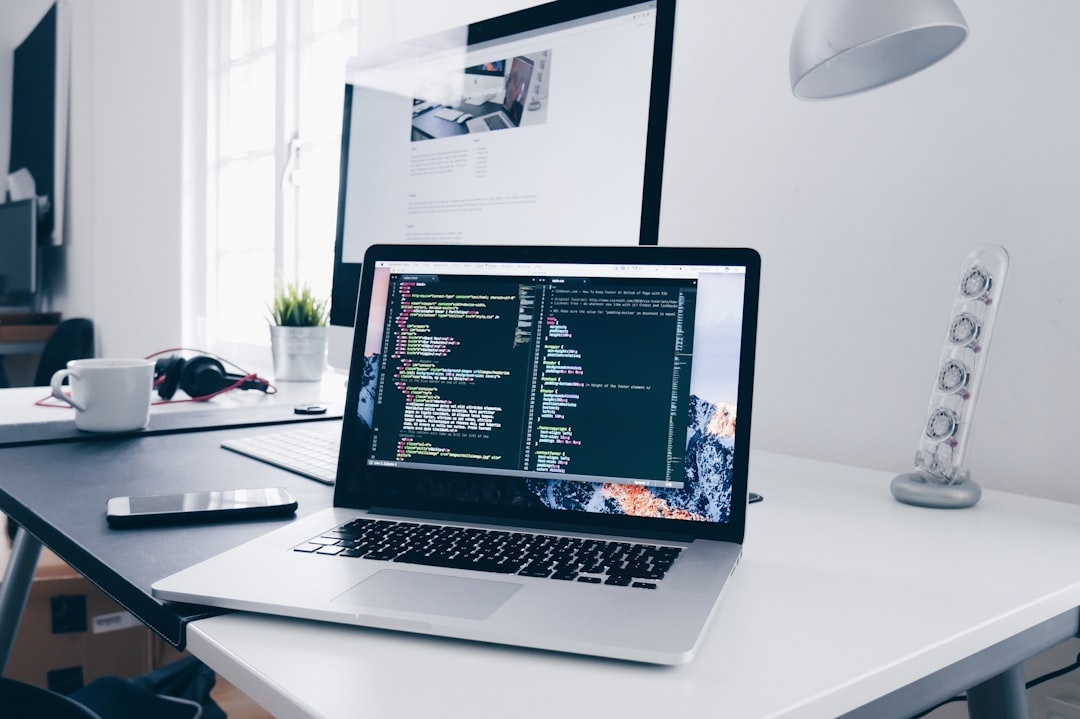laptop: (125, 223, 831, 682)
